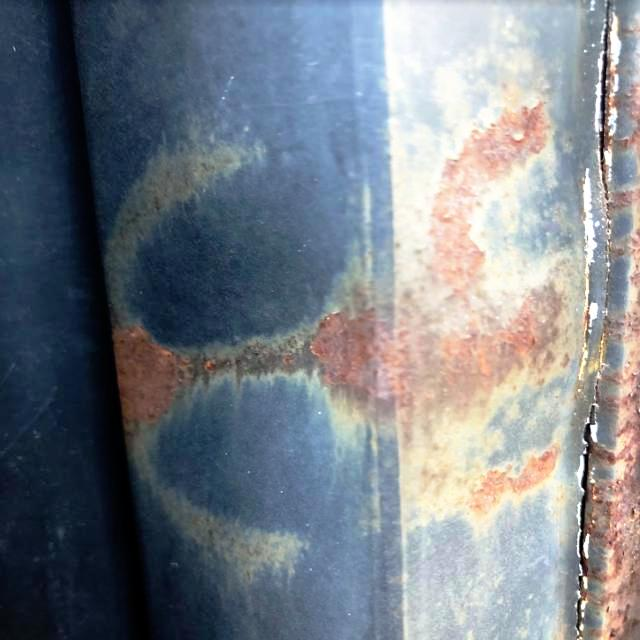Corrosion: (107, 97, 575, 446), (572, 298, 640, 640), (455, 449, 563, 521), (593, 9, 627, 211), (604, 184, 640, 207)
